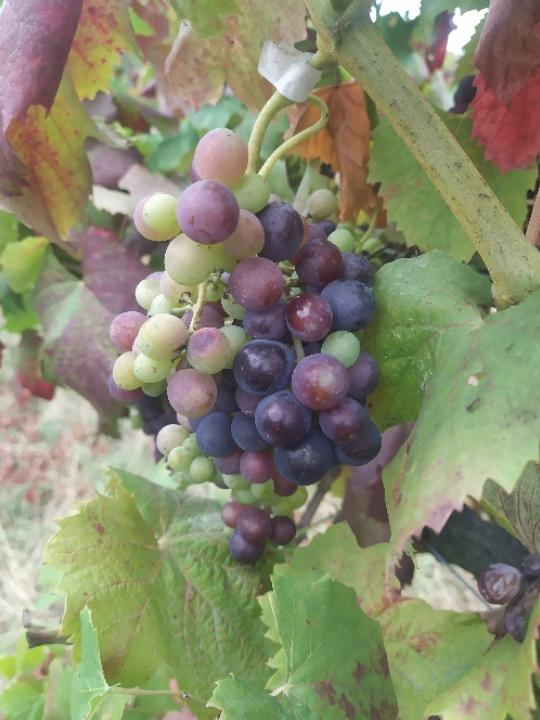grape: (105, 121, 392, 564)
